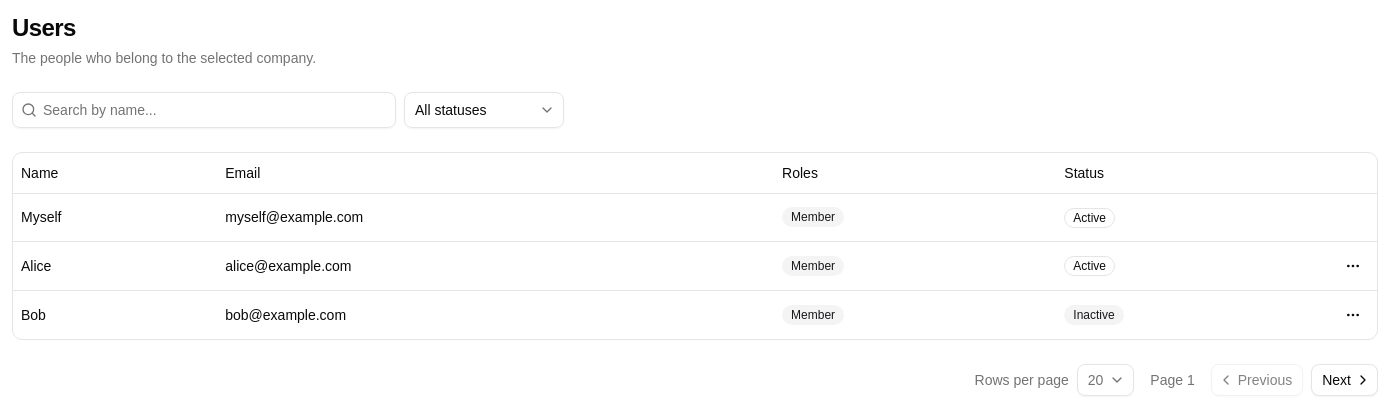
it: UsersPage › shows only the actions the user may do
The width and height of the screenshot is (1390, 413).
Click the button named "Actions for Alice".
click(1353, 266)  # box [1337,250,1369,282]
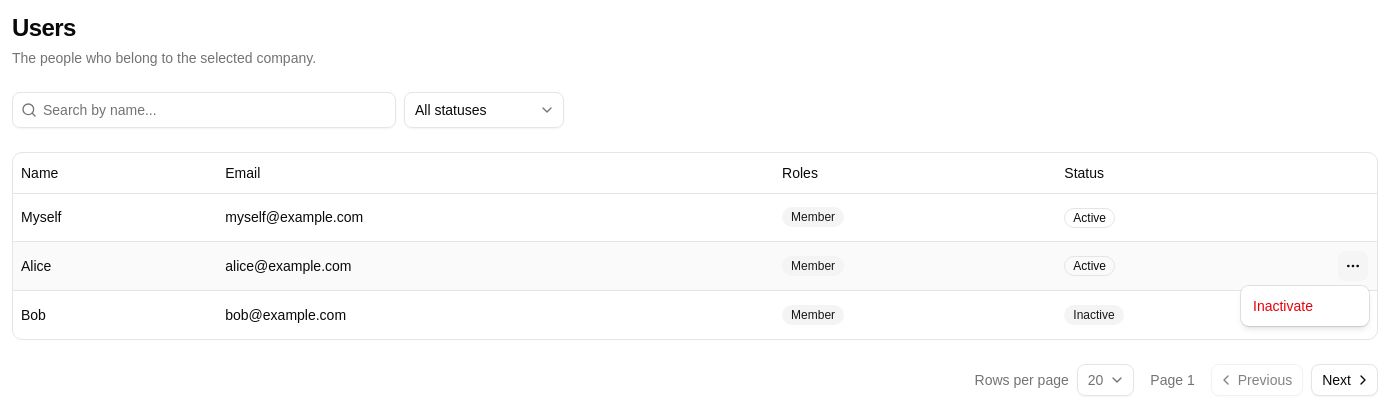
Result: the menu item "Inactivate" is shown at [1253,298,1313,314]
